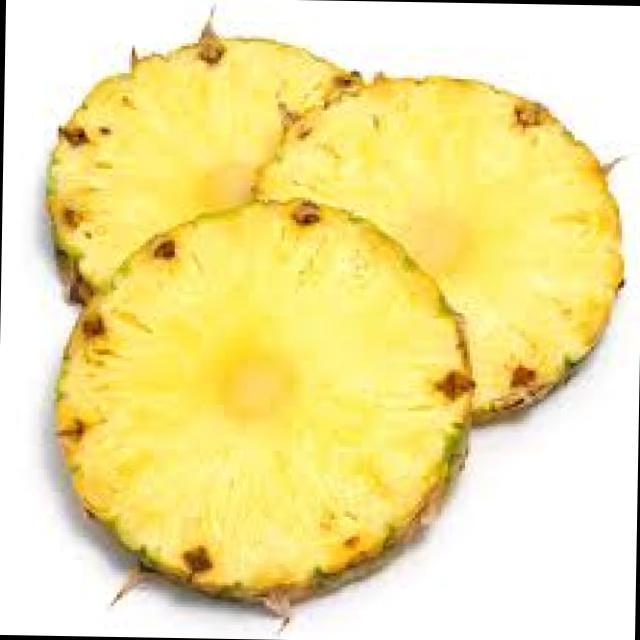Pineapple: (15, 1, 631, 620)
